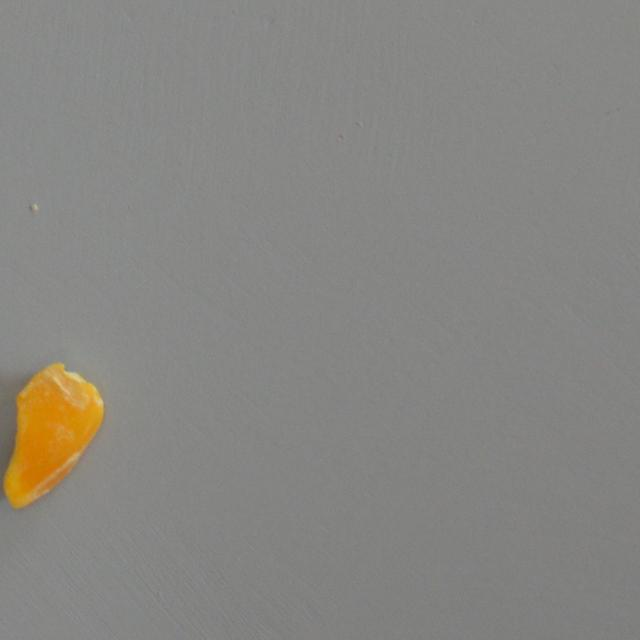pelicula: (0, 357, 104, 508)
